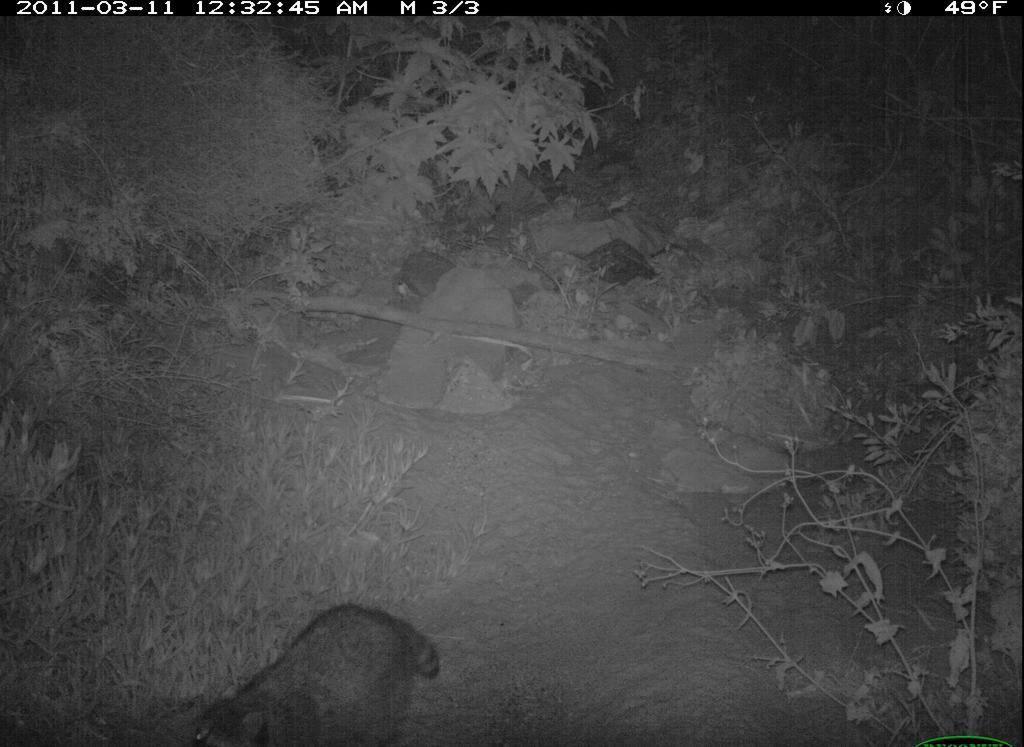raccoon: (163, 587, 447, 747)
